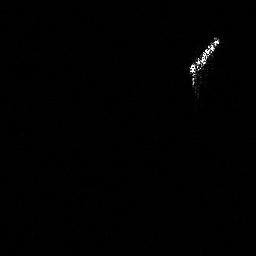ship: (190, 36, 221, 98)
